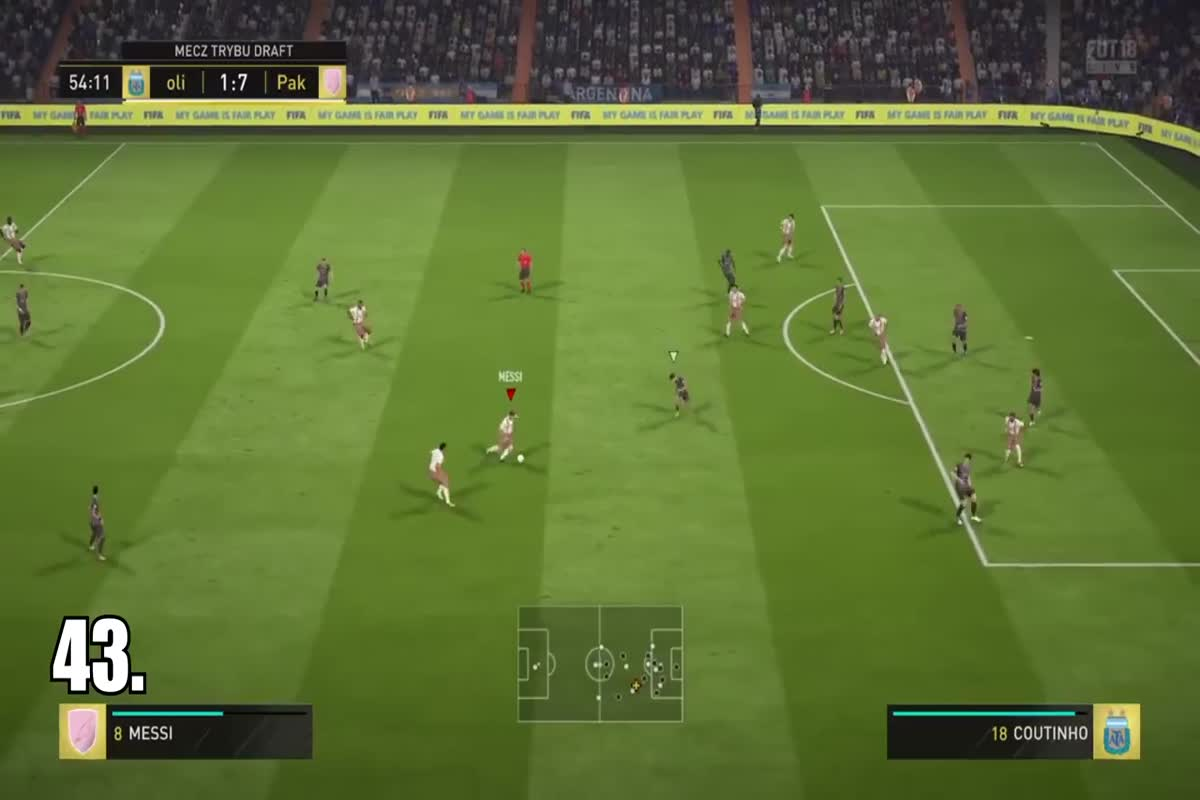ball: (515, 445, 533, 474)
